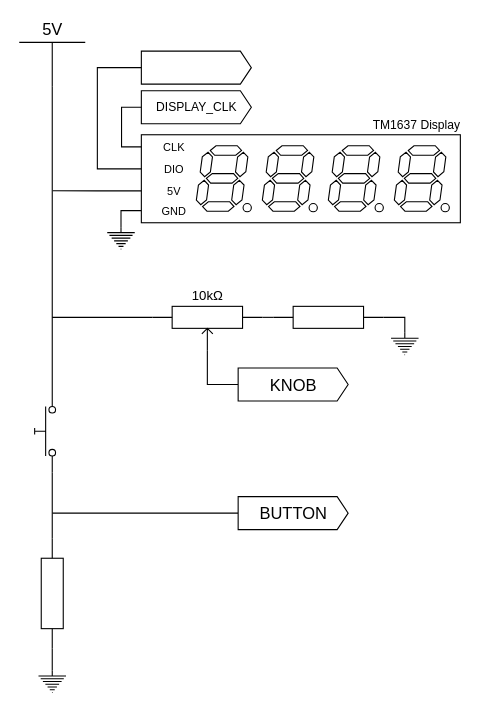
This 488x712 diagram has some shape labels left out. The centre of each missing label's shape, as x and y in pixels:
"330Ω" belongs at point (327, 316).
"4.7kΩ" belongs at point (51, 592).
"DISPLAY_DIO" belongs at point (195, 67).
